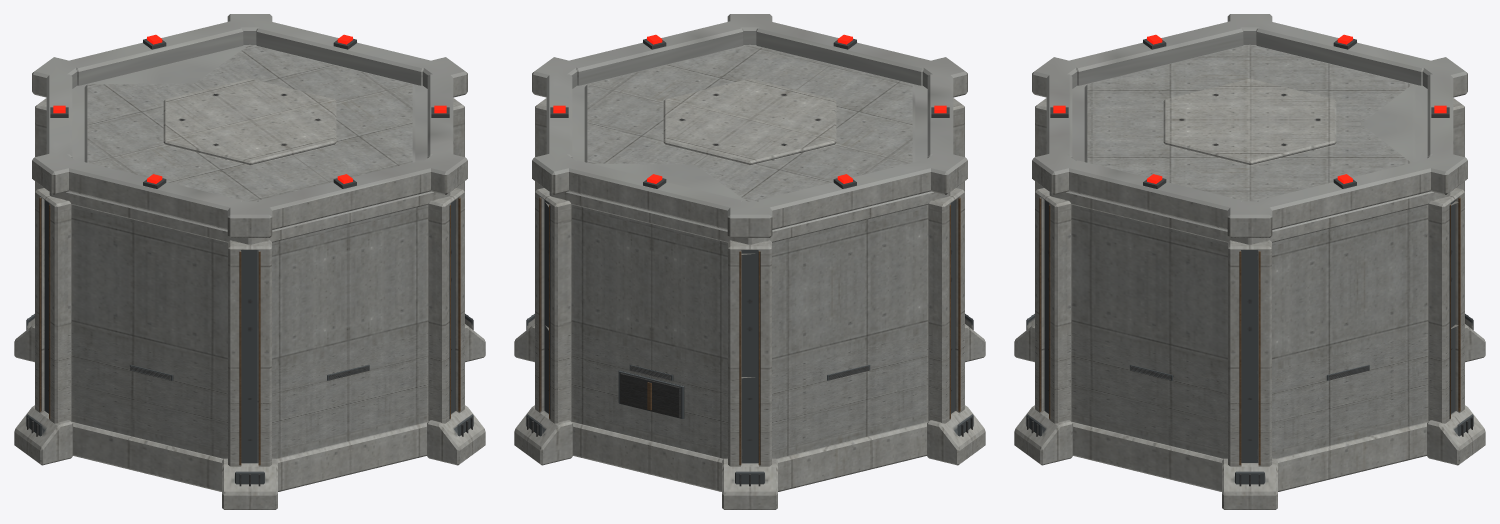
File: terminal.glb
The picture shows the model from 3 angles, left to right: view 1: azimuth 30°, elevation 25°; view 2: azimuth 150°, elevation 25°; view 3: azimuth 270°, elevation 25°; orthographic projection.
Parts seen in each view (by area): view 1: terminal-lod0-roof0, terminal-lod0-base0, terminal-lod0-floor0; view 2: terminal-lod0-roof0, terminal-lod0-base0, terminal-lod0-floor0; view 3: terminal-lod0-roof0, terminal-lod0-base0, terminal-lod0-floor0.
Part boxes in pixels (box(x1,y1,x2,y2)): terminal-lod0-roof0: box(32, 14, 467, 255); terminal-lod0-base0: box(14, 314, 485, 509); terminal-lod0-floor0: box(35, 113, 464, 379); terminal-lod0-roof0: box(532, 14, 967, 255); terminal-lod0-base0: box(514, 314, 985, 509); terminal-lod0-floor0: box(535, 113, 964, 379); terminal-lod0-roof0: box(1032, 14, 1467, 255); terminal-lod0-base0: box(1014, 314, 1485, 509); terminal-lod0-floor0: box(1035, 113, 1464, 379).
Size of what is drawn, in the model's own units: 68.04 by 42.97 by 62.35.
7 materials, 5 textured.
